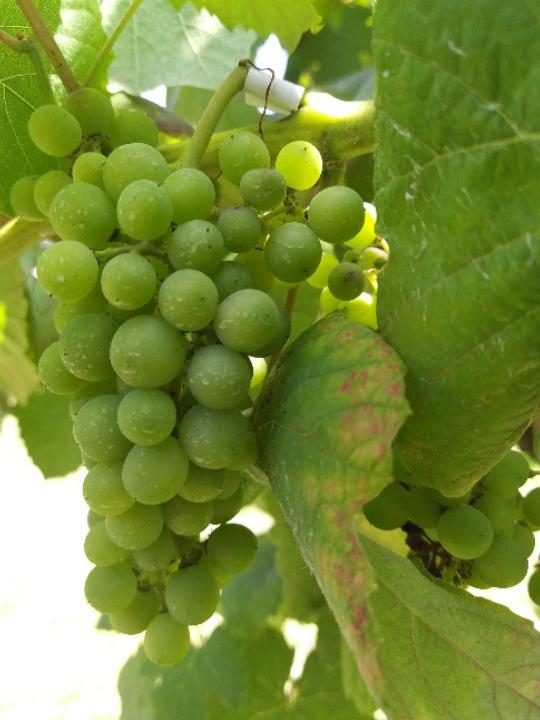grape: (8, 87, 388, 670)
